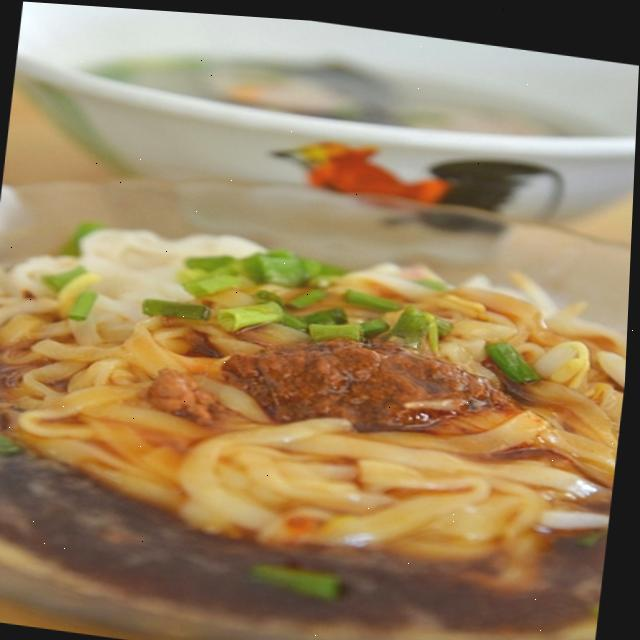面条主食: (0, 133, 635, 640)
